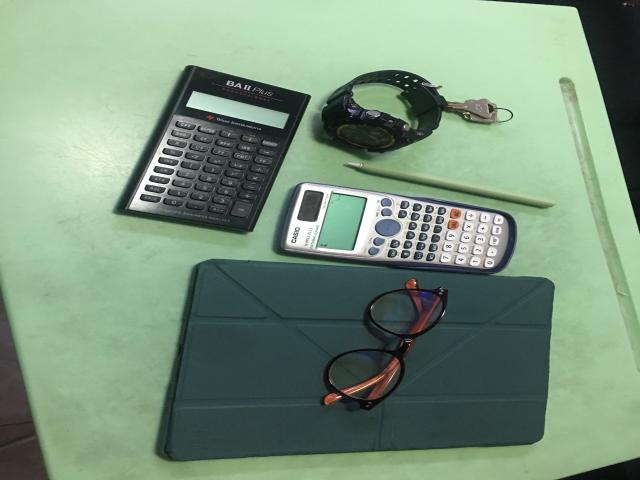Glasses: (323, 279, 448, 411)
Keys: (447, 98, 513, 123)
Watch: (322, 70, 448, 153)
